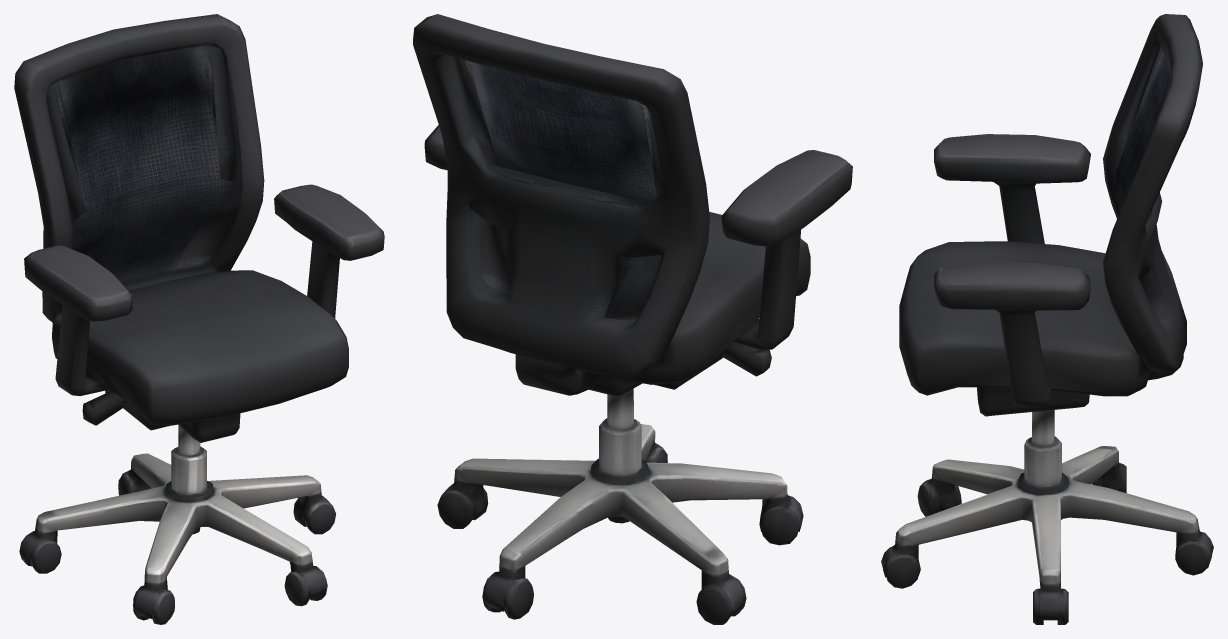
File: chair.glb
3 renders of one model, left to right at view 1: azimuth 30°, elevation 25°; view 2: azimuth 150°, elevation 25°; view 3: azimuth 270°, elevation 25°, orthographic. The views are drawn at different scales.
Visible parts, largest first — view 1: tripo_node_4dc679b3-38f9-4ecc-9fc4-37ba7a0b063d; view 2: tripo_node_4dc679b3-38f9-4ecc-9fc4-37ba7a0b063d; view 3: tripo_node_4dc679b3-38f9-4ecc-9fc4-37ba7a0b063d.
Part boxes in pixels (box(x1,y1,x2,y2)): tripo_node_4dc679b3-38f9-4ecc-9fc4-37ba7a0b063d: box(14, 14, 384, 624); tripo_node_4dc679b3-38f9-4ecc-9fc4-37ba7a0b063d: box(413, 14, 852, 624); tripo_node_4dc679b3-38f9-4ecc-9fc4-37ba7a0b063d: box(881, 14, 1213, 624).
Size of the model in its own units: 0.6621 by 0.998 by 0.6035.
1 material, 1 textured.
